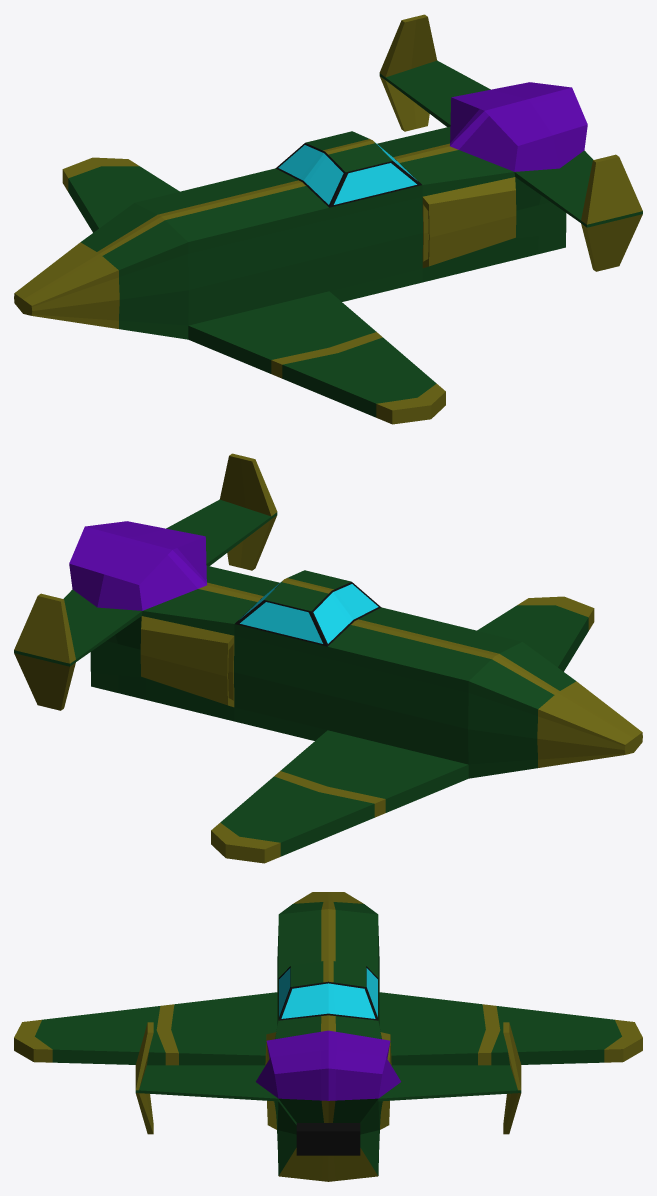
The model's file is ModelSacrifice.fbx.
3 renders of one model, top to bottom at view 1: azimuth 30°, elevation 25°; view 2: azimuth 150°, elevation 25°; view 3: azimuth 270°, elevation 25°, orthographic. The views are drawn at different scales.
Parts seen in each view (by area): view 1: Cube; view 2: Cube; view 3: Cube.
Part boxes in pixels (bbox=[...]): Cube: bbox=[14, 14, 642, 424]; Cube: bbox=[14, 453, 642, 863]; Cube: bbox=[14, 892, 642, 1181].
Size of the model in its own units: 1179 by 312 by 1258.
